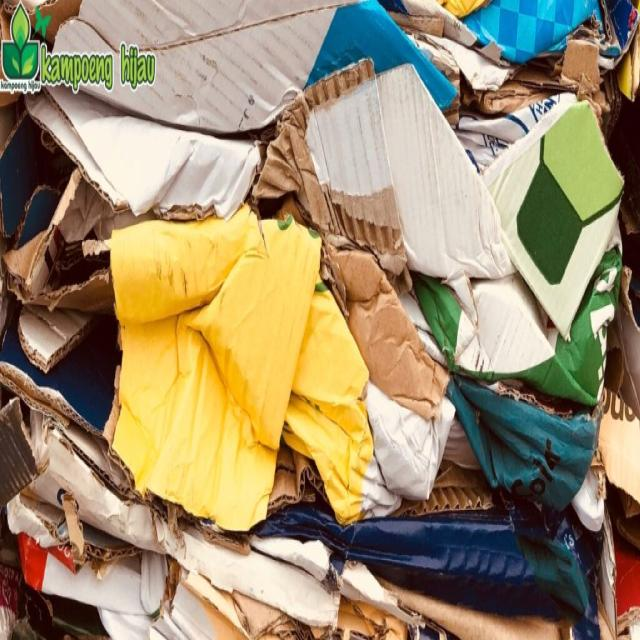Kertas: (38, 97, 608, 570)
